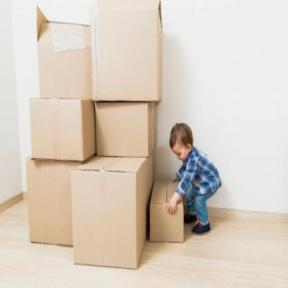box: (72, 156, 154, 274), (92, 0, 162, 104), (32, 8, 92, 99), (26, 97, 93, 164), (24, 161, 74, 248), (92, 104, 160, 160), (146, 173, 188, 247)
